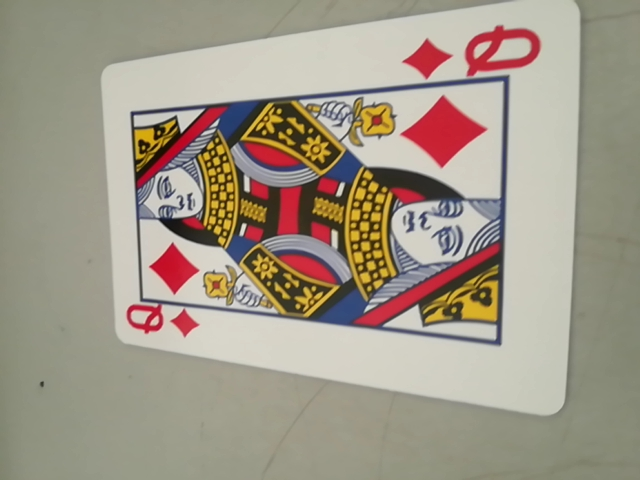fk q: (409, 22, 544, 83), (121, 297, 202, 347)
